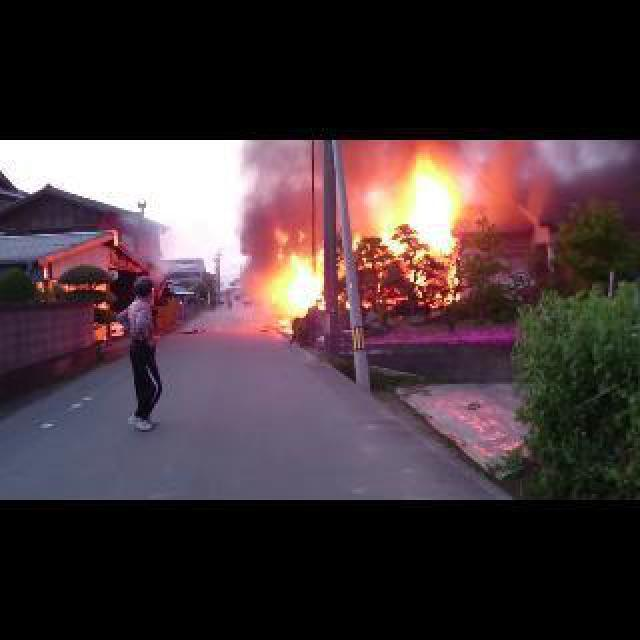Fire: (378, 158, 464, 308), (258, 228, 328, 334), (354, 230, 364, 250), (344, 300, 352, 310)
Smoke: (232, 146, 331, 259)
